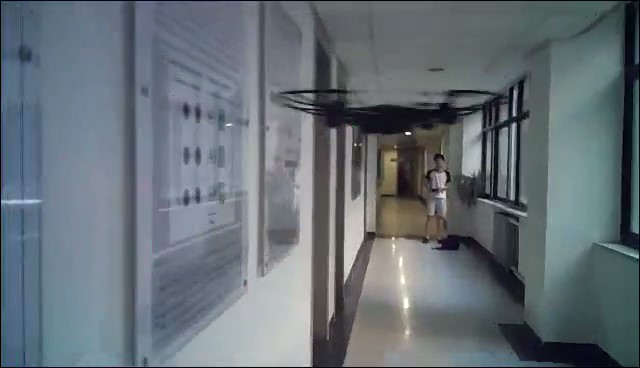drone: (272, 87, 513, 175)
person: (422, 151, 453, 244)
